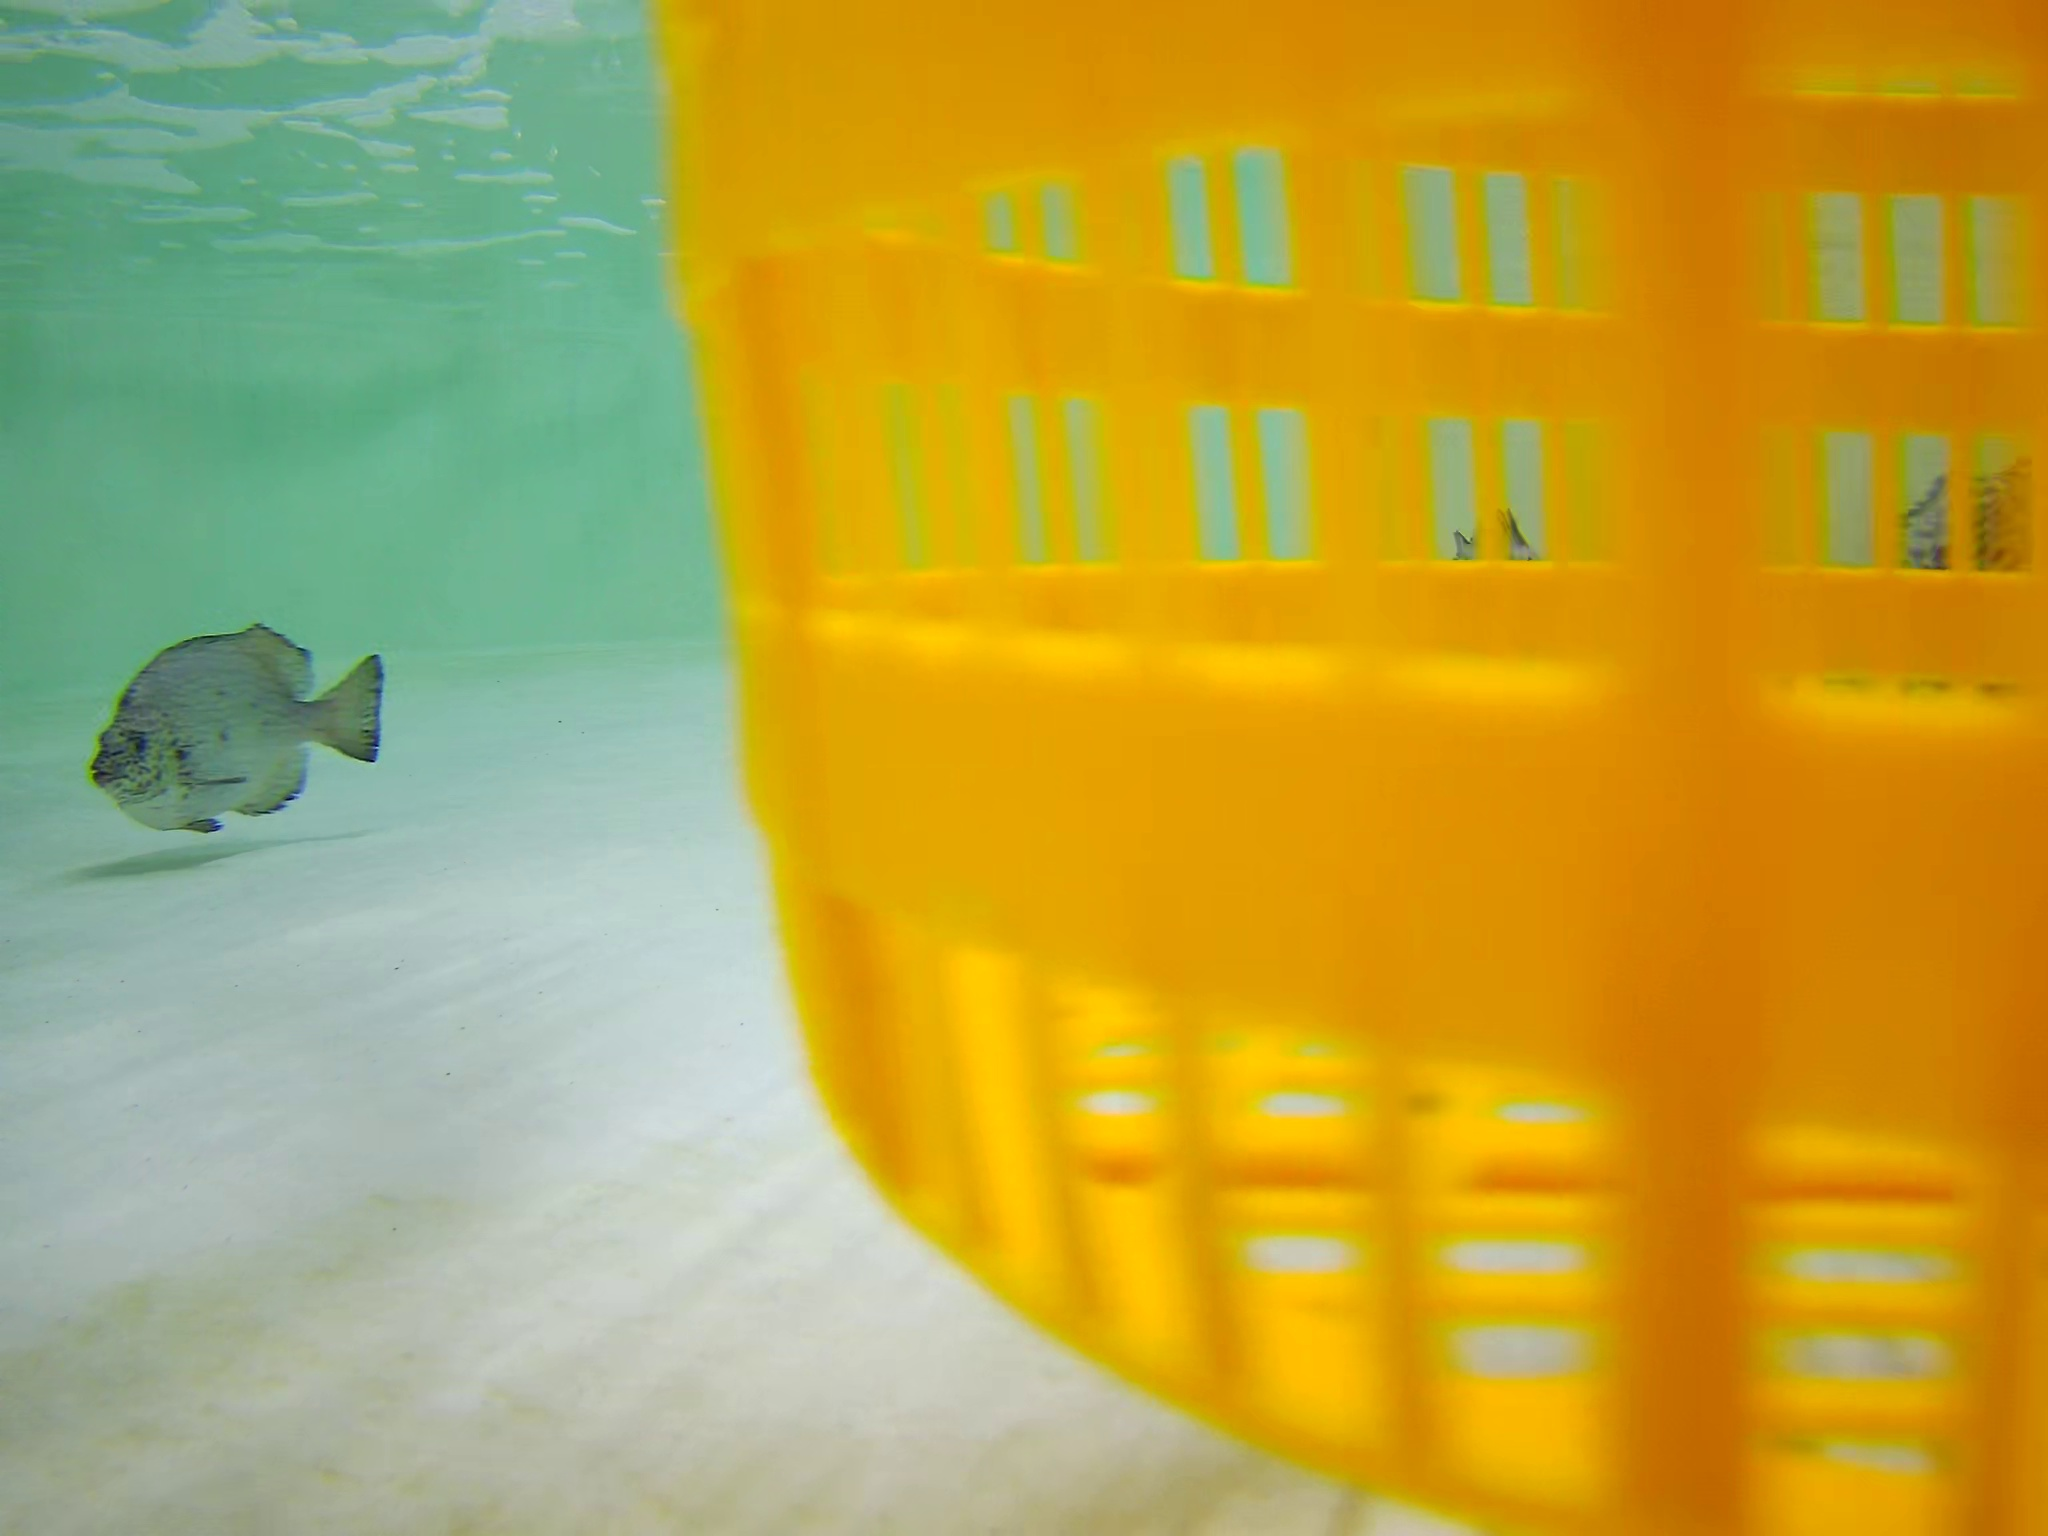fish: (90, 628, 392, 834), (1872, 460, 2032, 712), (1429, 502, 1561, 703)
